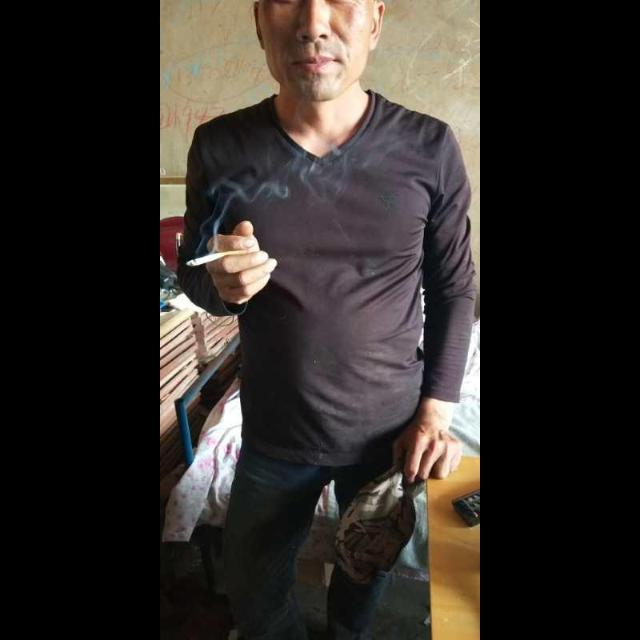rokok: (184, 244, 256, 268)
